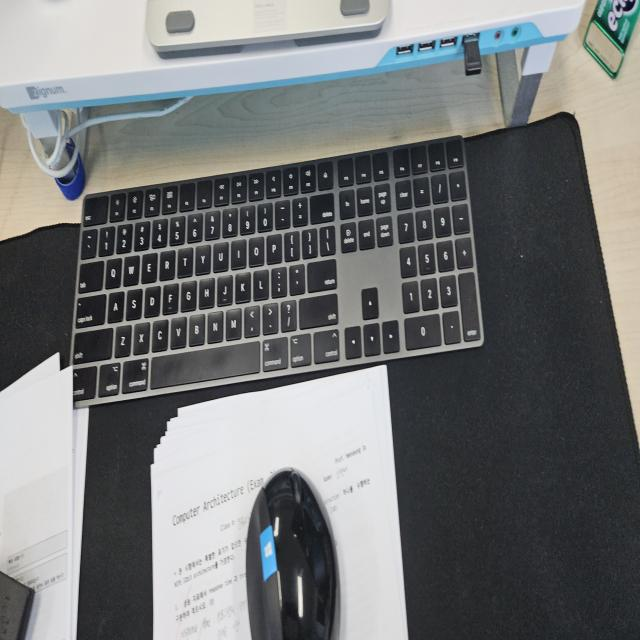Keyboard: (68, 132, 485, 408)
Mouse: (243, 464, 339, 637)
